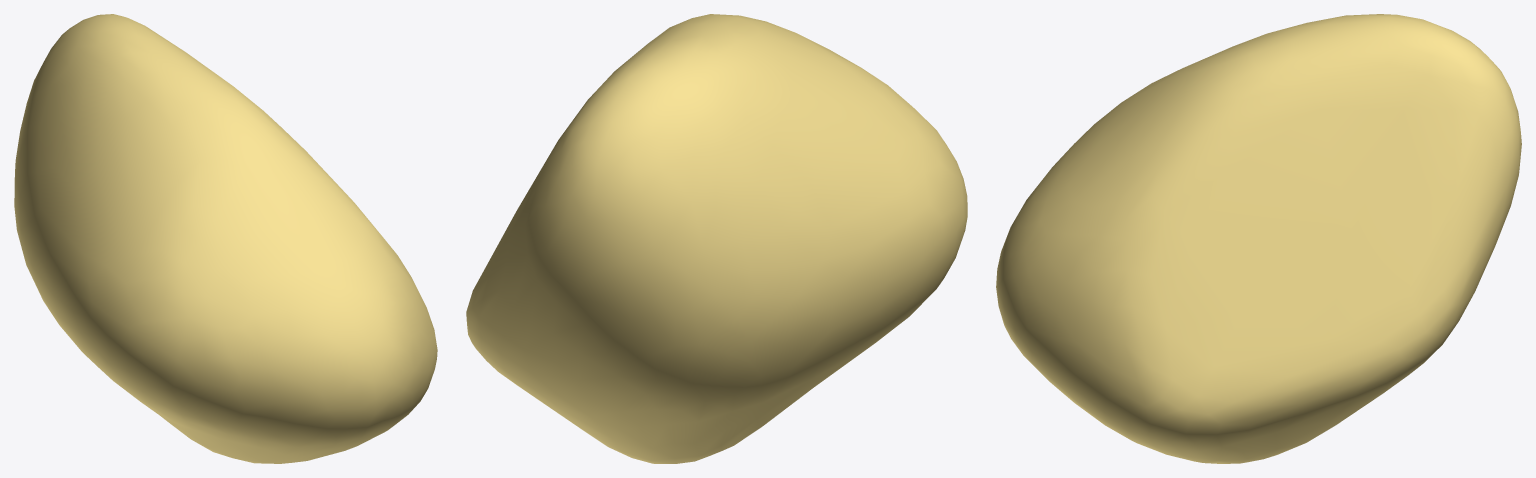
File: fma72870_mm2999m.glb
The picture shows the model from 3 angles, left to right: view 1: azimuth 30°, elevation 25°; view 2: azimuth 150°, elevation 25°; view 3: azimuth 270°, elevation 25°; orthographic projection. The views are drawn at different scales.
Parts seen in each view (by area): view 1: FMA72870_MM2999M; view 2: FMA72870_MM2999M; view 3: FMA72870_MM2999M.
Part boxes in pixels (x1=…): FMA72870_MM2999M: x1=14, y1=14, x2=437, y2=463; FMA72870_MM2999M: x1=466, y1=14, x2=967, y2=463; FMA72870_MM2999M: x1=996, y1=14, x2=1521, y2=463.
Bounding box in the file's own units: 0.0105 × 0.0118 × 0.014.
